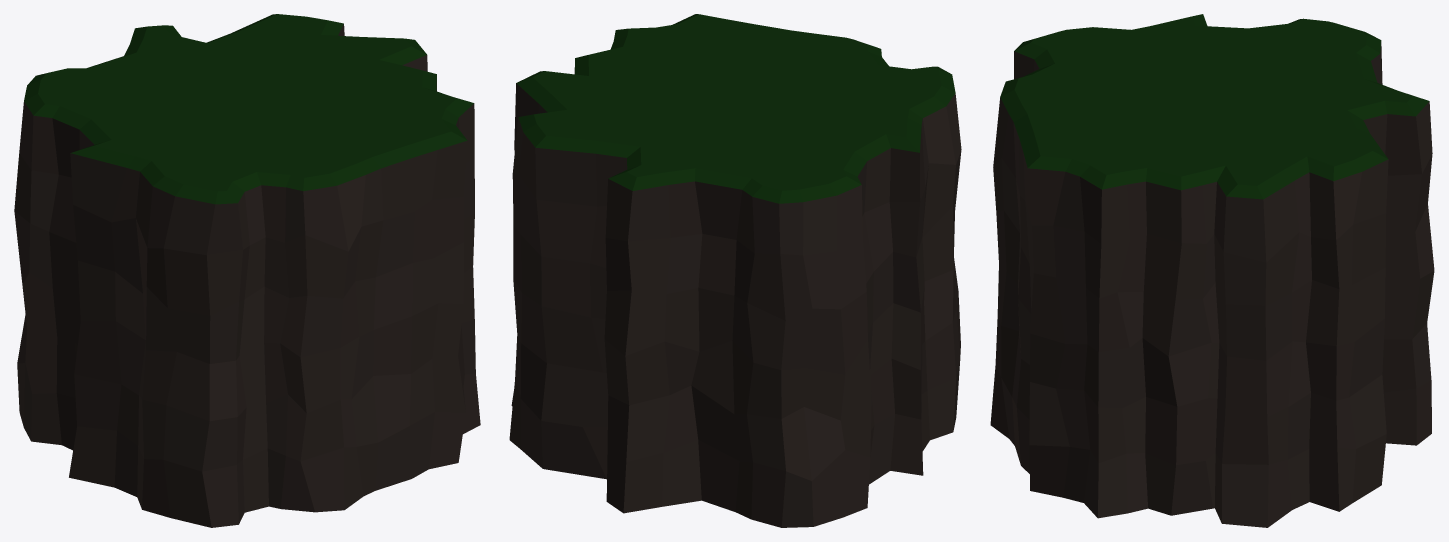
The model's file is island1A(F338)[exp].obj.
3 views of the same model, side by side, from view 1: azimuth 30°, elevation 25°; view 2: azimuth 150°, elevation 25°; view 3: azimuth 270°, elevation 25° (orthographic).
Visible parts, largest first — view 1: Plane; view 2: Plane; view 3: Plane.
Part boxes in pixels (x1,y1,x2,y2): Plane: (14,14,480,527); Plane: (509,14,961,527); Plane: (990,14,1434,527).
Size of the model in its own units: 1.7 by 1.42 by 1.7.
